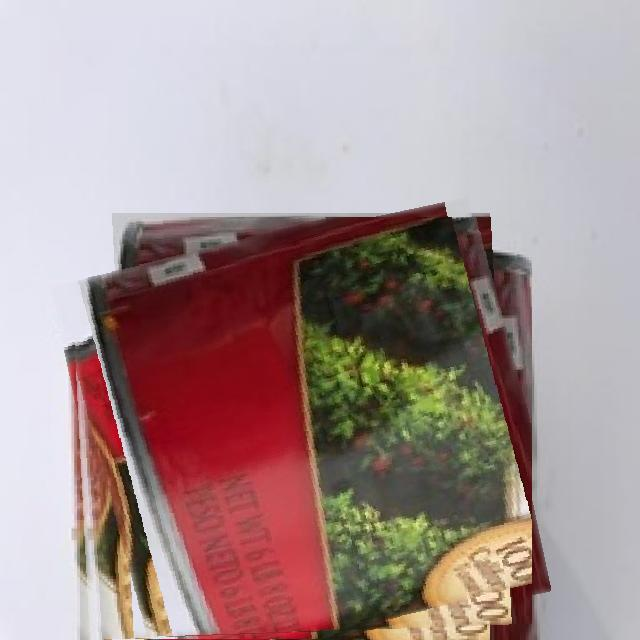recyclable: (68, 217, 532, 640)
